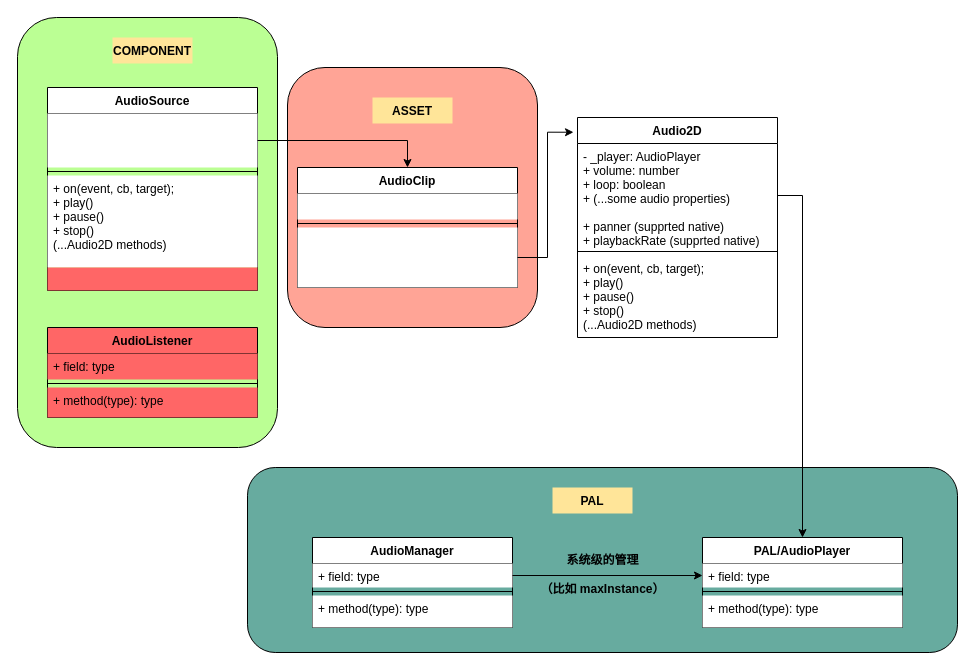
Image size: 975x670. Some labels were removed from this diagram. Each missing label, with the centre of its shape:
+ (... some assets properties): (407,206)
+ clip: AudioClip - _audio2D: Audio2D (... some properties): (152,140)
+ createAudio(options, cb): Audio2D + playOneShot() + destroy(): (407,257)
Spatial Audio Extension: (152,278)
